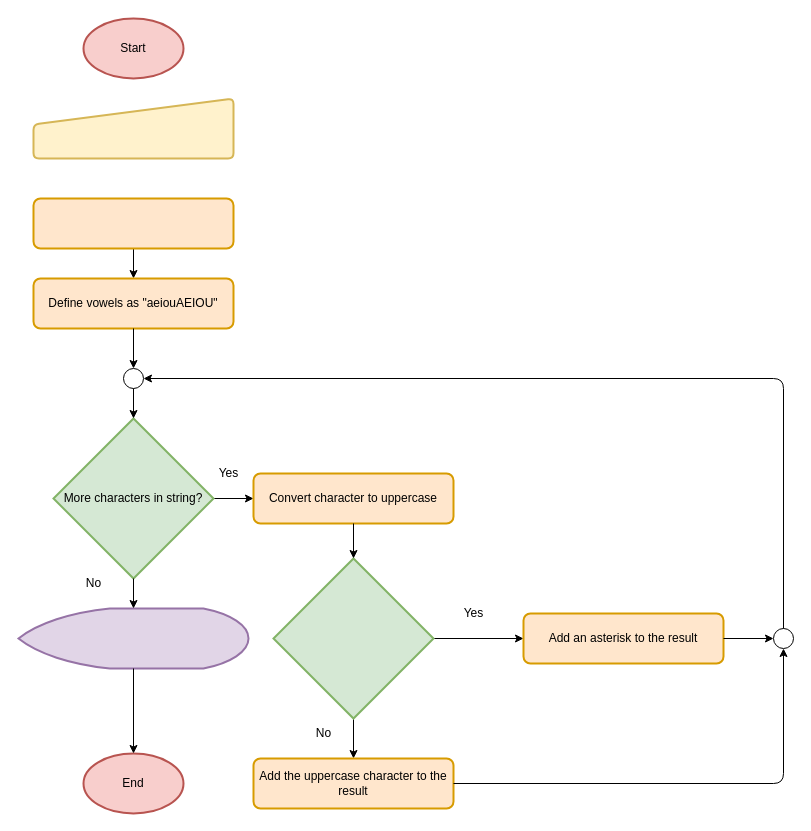
The diagram is 811 pixels wide and 831 high, and some of its shapes have lost their labels. Each missing label, with the centre of its shape:
Initialize an empty string for the result: [133,223]
Is character a vowels?: [353,638]
Print the modified string: [133,638]
Read input string from the user: [133,128]
